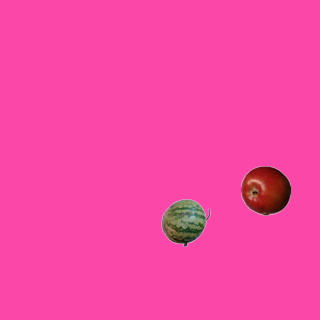Apple Braeburn: (240, 165, 290, 215)
Watermelon: (160, 197, 210, 247)
